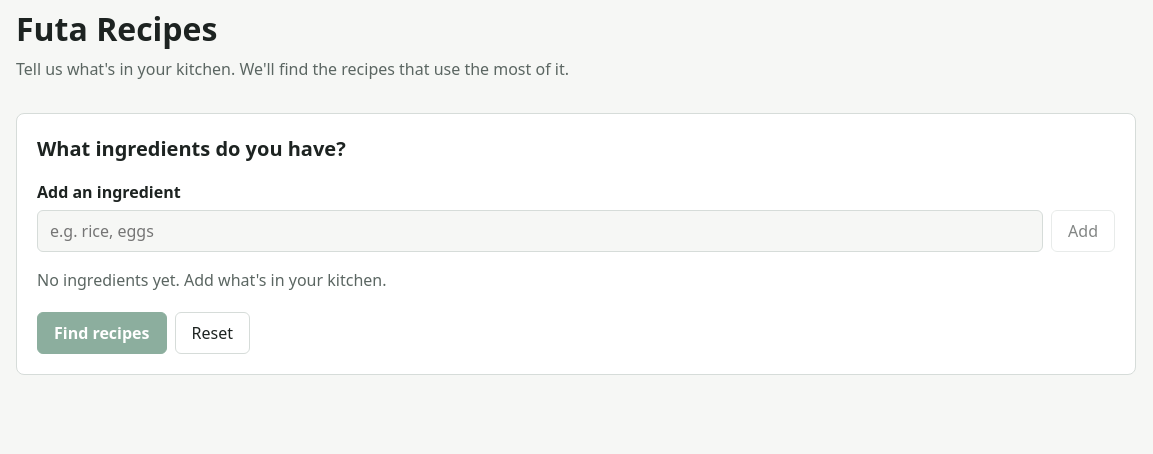
Test: inclut l'ingrédient tapé mais pas encore ajouté
In the field labelled "Add an ingredient": (540, 231) x1=37 y1=210 x2=1043 y2=252, type "eggs"
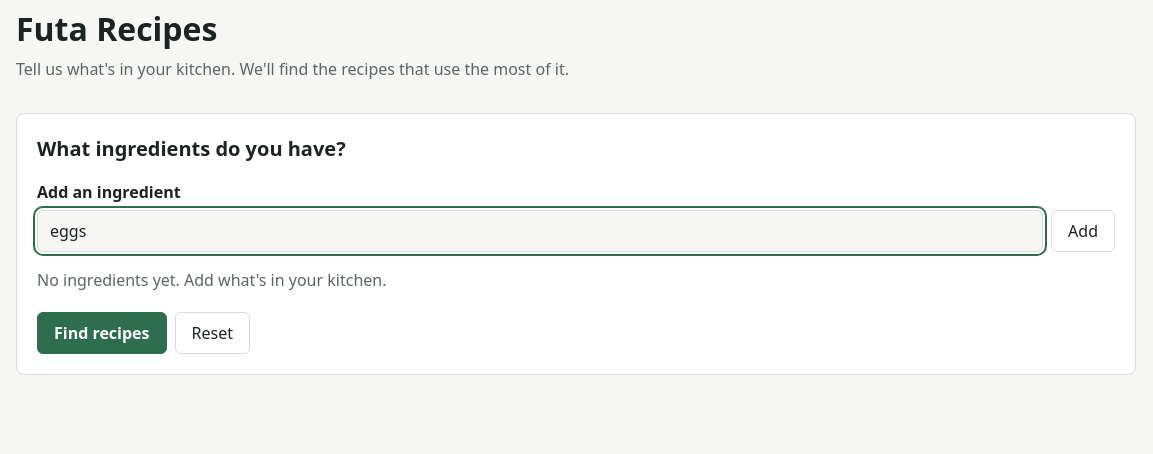
Click the button "Find recipes": (102, 333) x1=37 y1=312 x2=166 y2=354
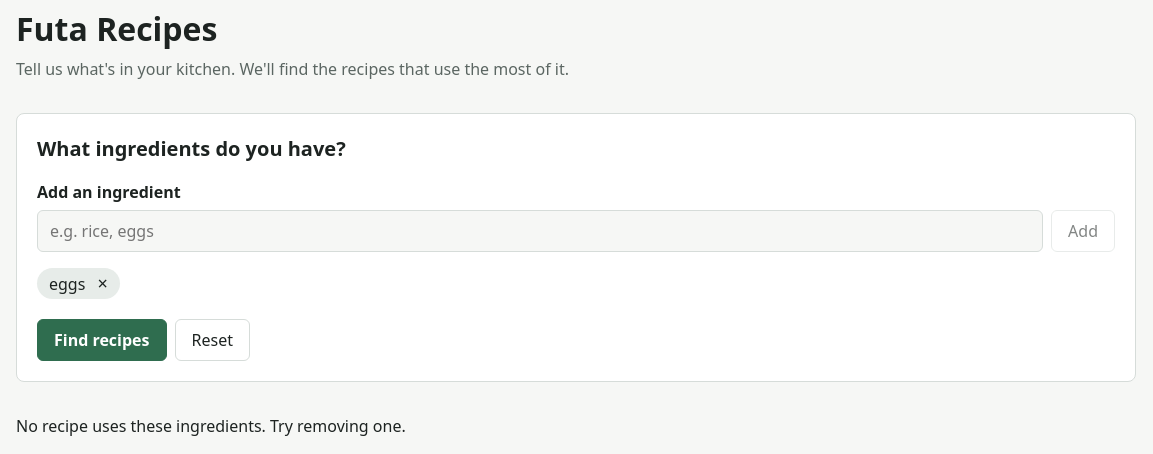
Check: the text "No recipe uses these ingredients. Try removing one." is shown, box x1=16 y1=415 x2=406 y2=437
Check: the field labelled "Add an ingredient" is empty, box x1=37 y1=210 x2=1043 y2=252
